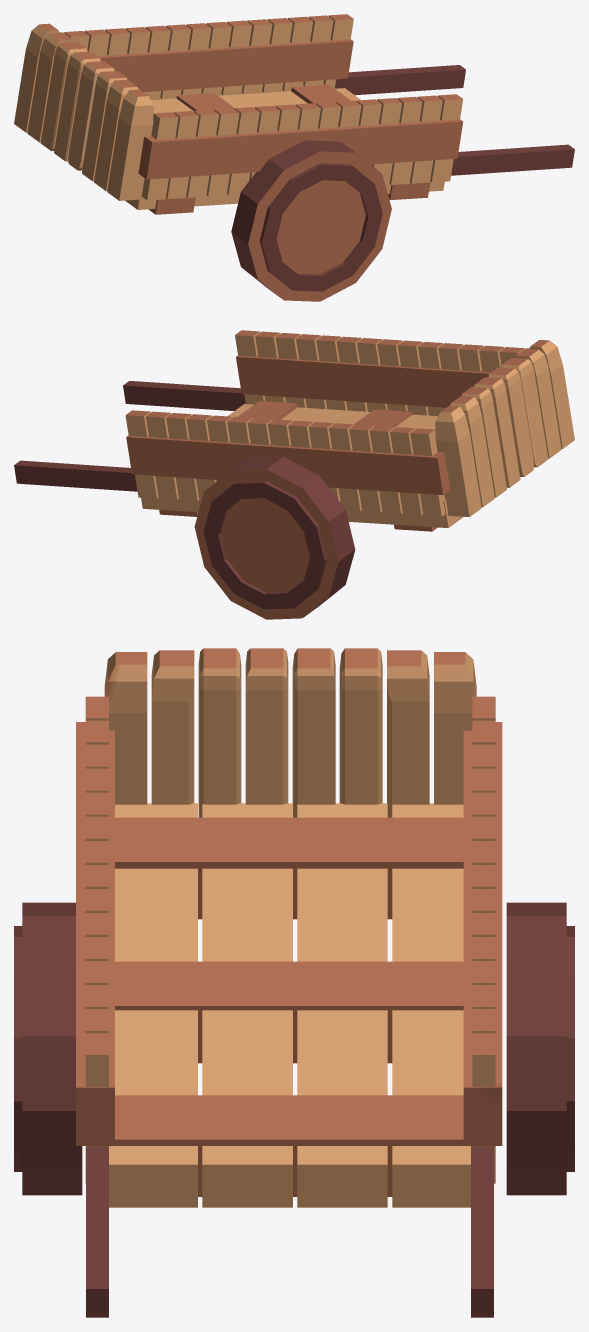
Rendered from Facundo_Valenzuela_Carreta.fbx.
3 renders of one model, top to bottom at view 1: azimuth 30°, elevation 25°; view 2: azimuth 150°, elevation 25°; view 3: azimuth 270°, elevation 25°, orthographic. The views are drawn at different scales.
Parts seen in each view (by area): view 1: Cube; view 2: Cube; view 3: Cube.
Boxes of the visible parts, x1,y1,x2,y2 form: Cube: (14,14,574,301); Cube: (14,330,574,619); Cube: (14,648,574,1317).
Bounding box in the file's own units: 439 × 209 × 268.
1 material, 1 textured.
